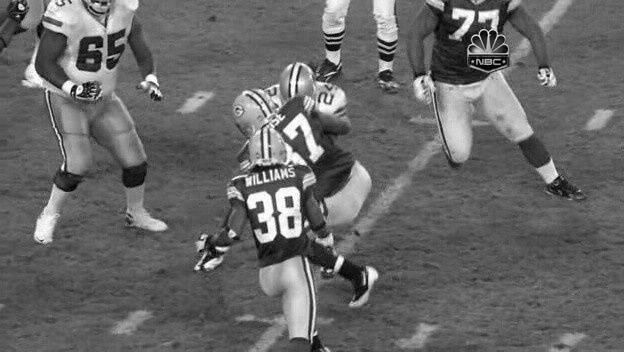person: (277, 65, 310, 107), (276, 65, 309, 107), (278, 65, 311, 107), (277, 64, 310, 106), (277, 66, 310, 108)
target_negative: (193, 17, 572, 24), (512, 181, 551, 229), (306, 252, 472, 259), (325, 341, 449, 347), (488, 342, 611, 346), (523, 266, 550, 283)
